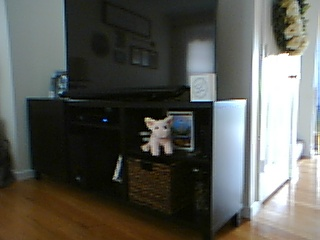piggy: (139, 114, 176, 156)
